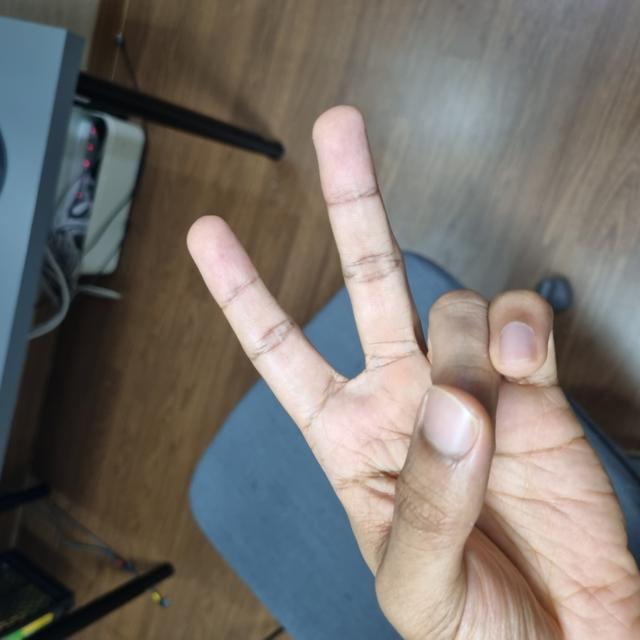Scissors: (2, 186, 532, 640)
